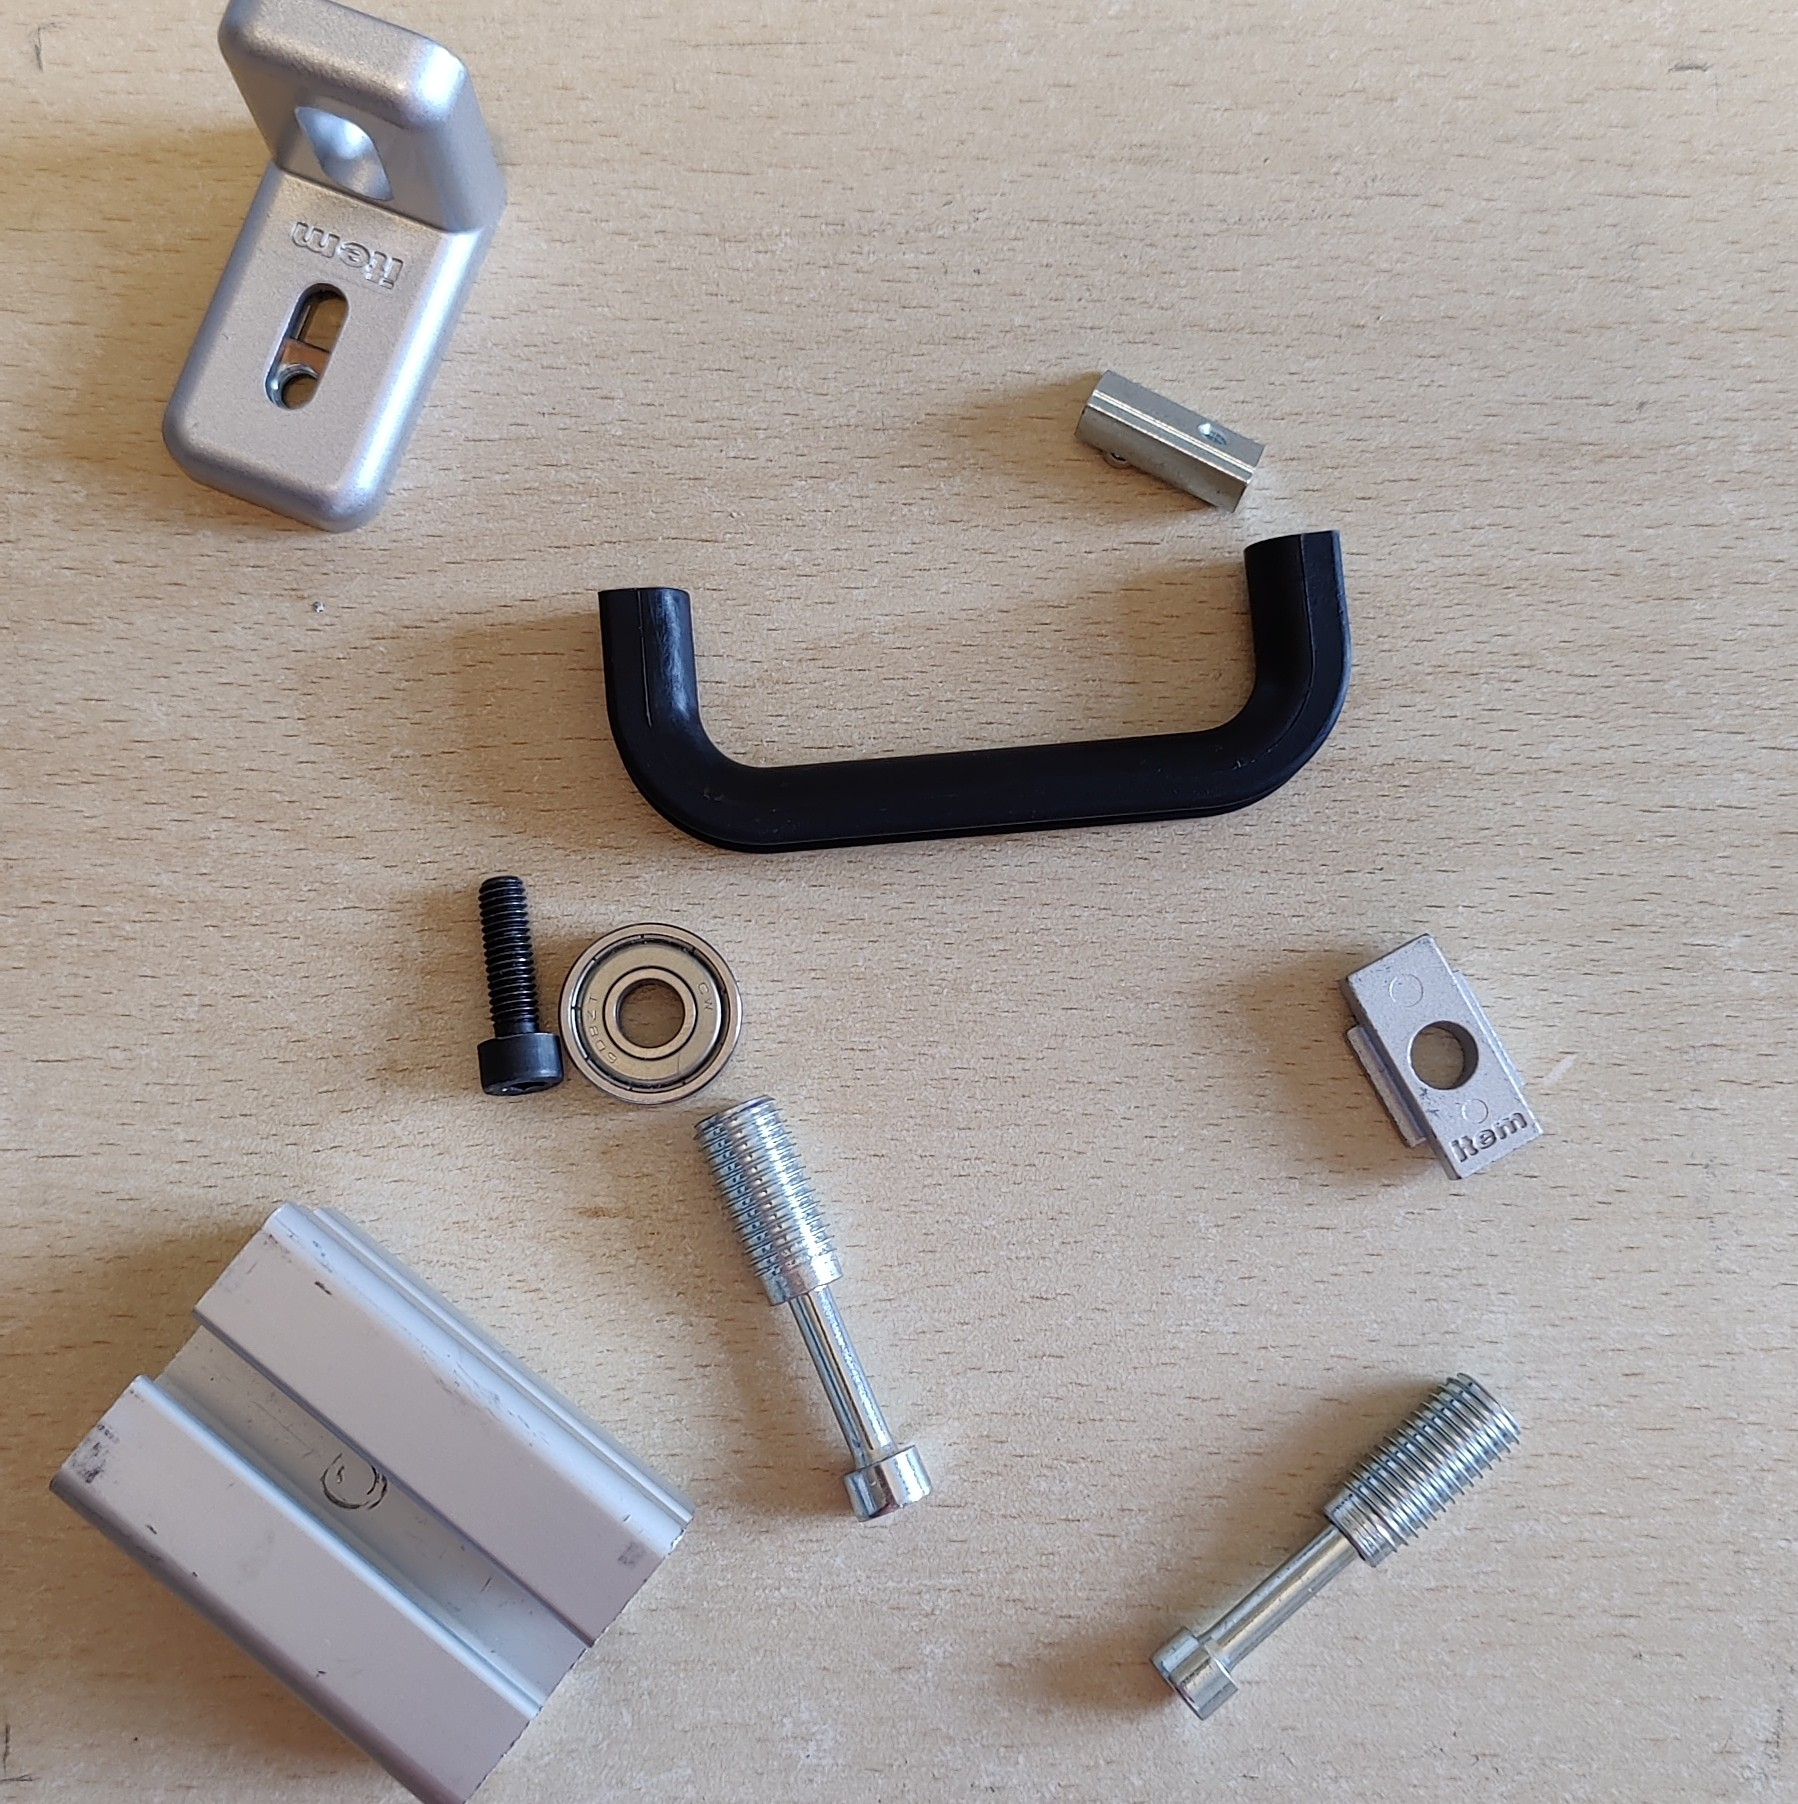Aluminium Extension: (48, 1197, 695, 1804)
Ball Bearing: (555, 918, 743, 1111)
Multiwinkel: (161, 2, 507, 533)
Pull Handle: (594, 525, 1353, 856)
Shoulder Socket Head Cap Screw: (1148, 1368, 1521, 1727), (688, 1090, 935, 1524)
Socket Head Cap Screw: (473, 871, 570, 1100)
T Nut Square: (1335, 930, 1549, 1185)
T Spring Nut: (1070, 365, 1273, 518)
